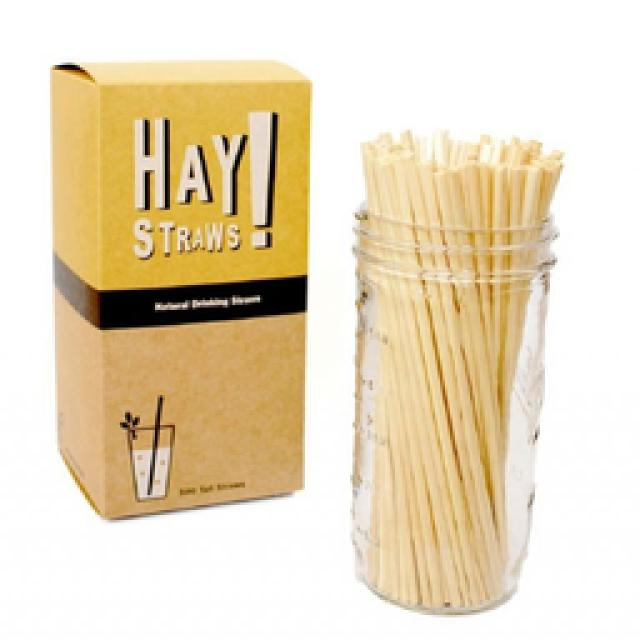plastic: (347, 125, 565, 613)
